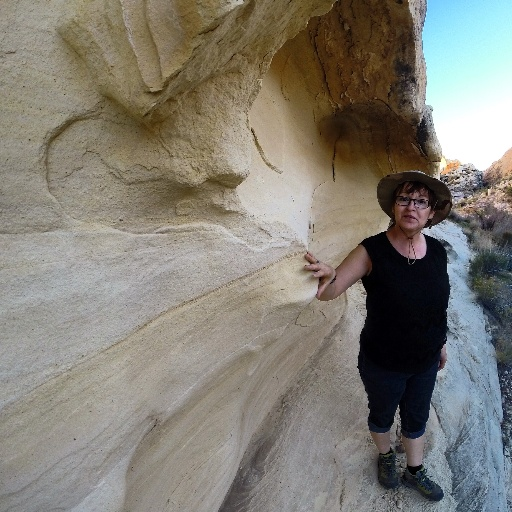hand: (304, 250, 335, 298), (436, 343, 447, 371)
